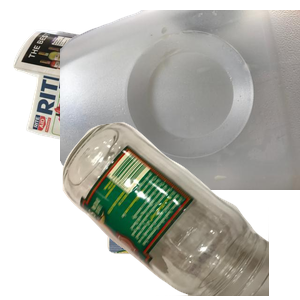glass: (60, 120, 300, 300)
paper: (11, 27, 213, 185)
plastic: (60, 10, 300, 190)
trash: (105, 152, 280, 300)
